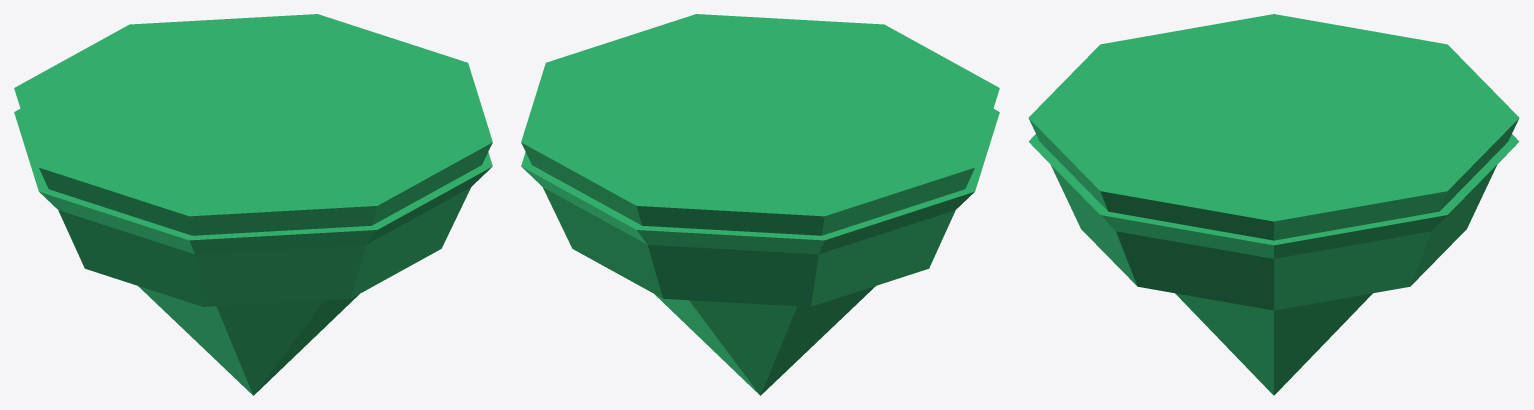
Rendered from SM_Product_CutGem.fbx.
3 views of the same model, side by side, from view 1: azimuth 30°, elevation 25°; view 2: azimuth 150°, elevation 25°; view 3: azimuth 270°, elevation 25° (orthographic).
Visible parts, largest first — view 1: SM_Product_CutGem; view 2: SM_Product_CutGem; view 3: SM_Product_CutGem.
Part boxes in pixels (x1=…): SM_Product_CutGem: x1=14, y1=14, x2=492, y2=395; SM_Product_CutGem: x1=521, y1=14, x2=999, y2=395; SM_Product_CutGem: x1=1028, y1=14, x2=1519, y2=395.
Size of the model in its own units: 0.56 by 0.35 by 0.56.
